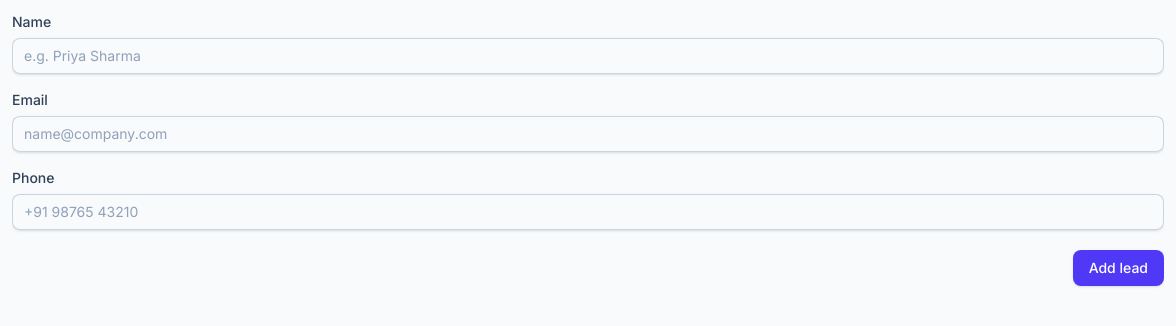
LeadForm › maps server field errors onto the matching inputs
Type "Priya Sharma" into the field labelled "Name".
click(588, 56); type("Priya Sharma")  # box x1=12 y1=38 x2=1164 y2=74
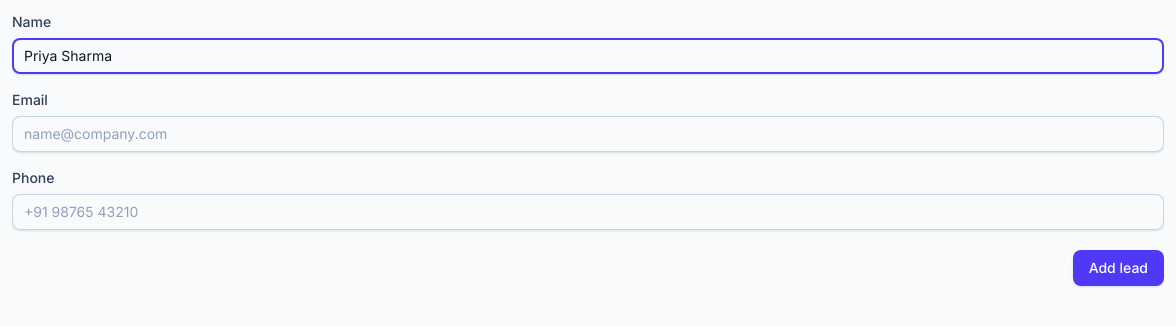
Type "priya@example.com" into the field labelled "Email".
click(588, 134); type("priya@example.com")  # box x1=12 y1=116 x2=1164 y2=152
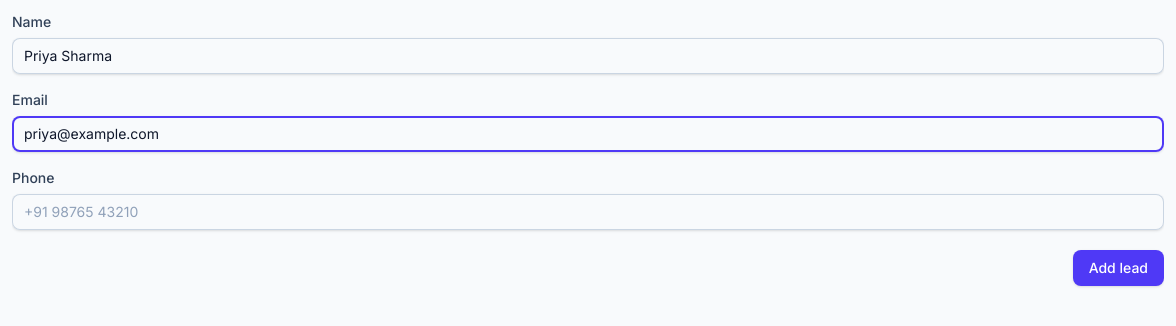
Type "9876543210" into the field labelled "Phone".
click(588, 212); type("9876543210")  # box x1=12 y1=194 x2=1164 y2=230
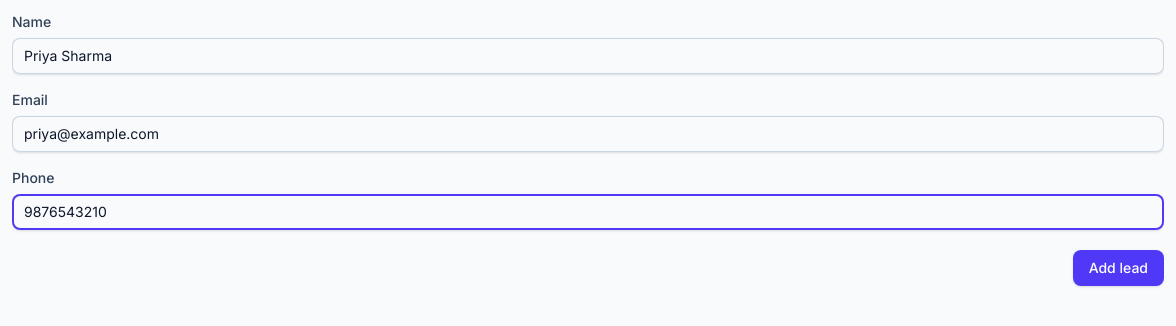
Click the button "Add lead".
click(1118, 268)  # box x1=1073 y1=250 x2=1164 y2=286
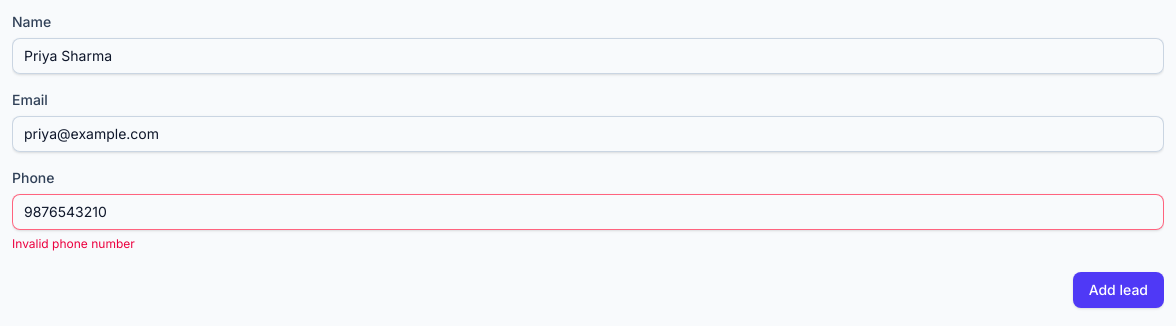
Now the text "Invalid phone number" is shown, box x1=12 y1=236 x2=135 y2=251
